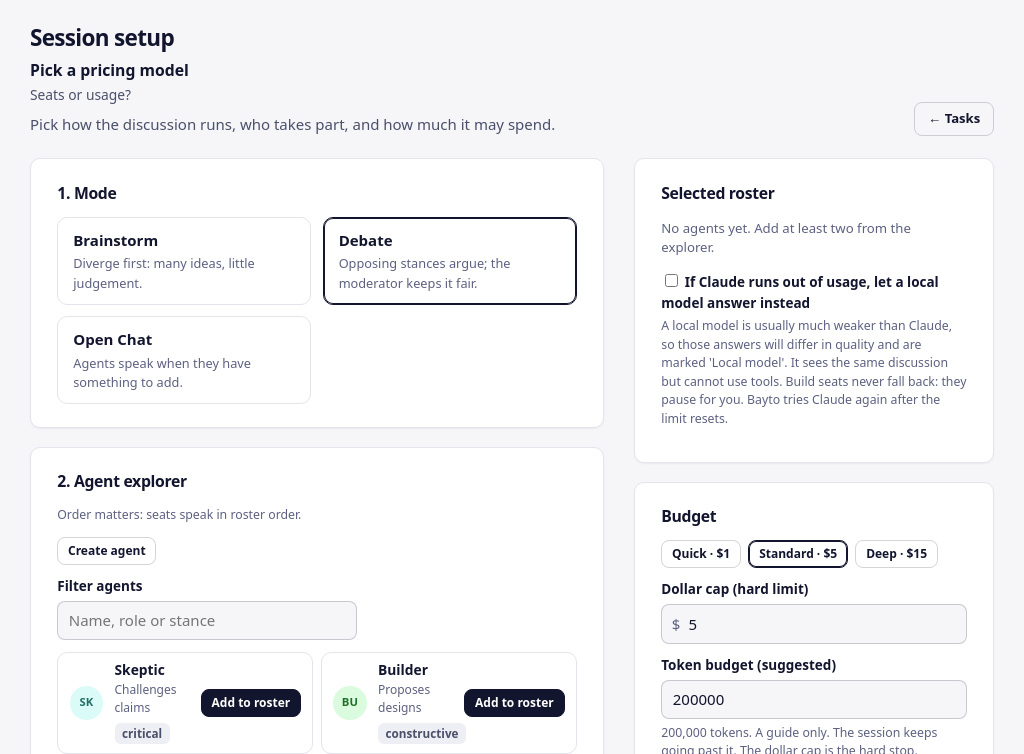
Test: UX-14 roster rows › renders the full name with no truncation wrapper next to the select
This screenshot has width=1024, height=754.
Expected: the text "Pick a pricing model" is shown, [30,58,189,80]
Click the button "Add to roster" below "Skeptic" at (251, 703), box [201,689,301,717]
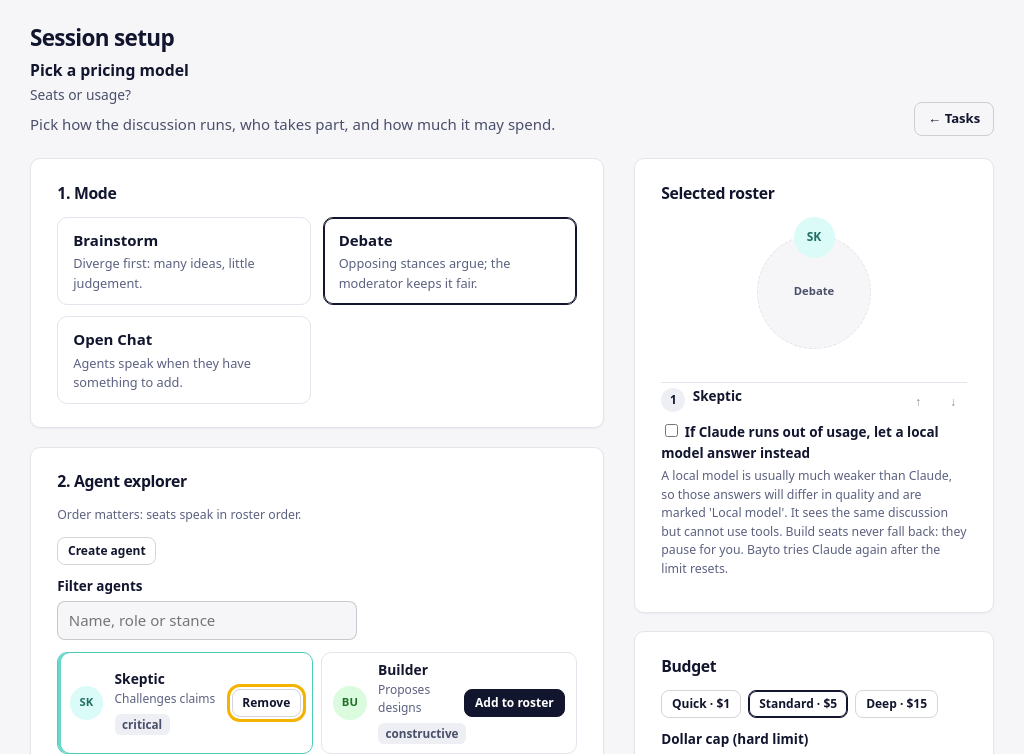
Expected: the text with class "roster-name" reads "Skeptic", [693,387,742,405]
